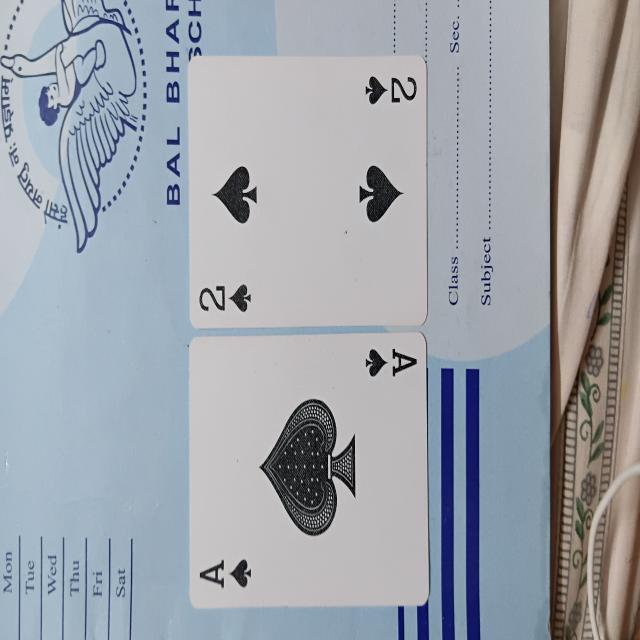2S: (188, 54, 426, 328)
AS: (190, 329, 429, 607)
